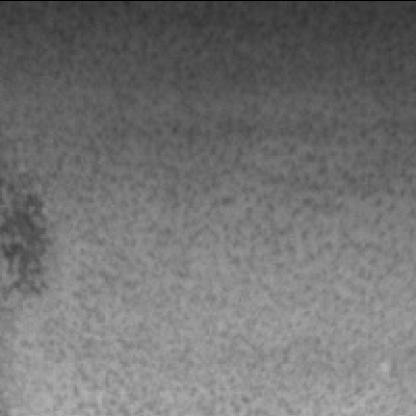pitted_surface: (0, 4, 412, 416), (0, 160, 50, 304)
